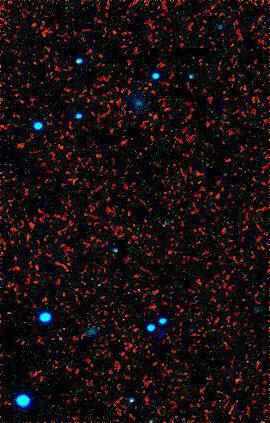star: (120, 388, 150, 418)
